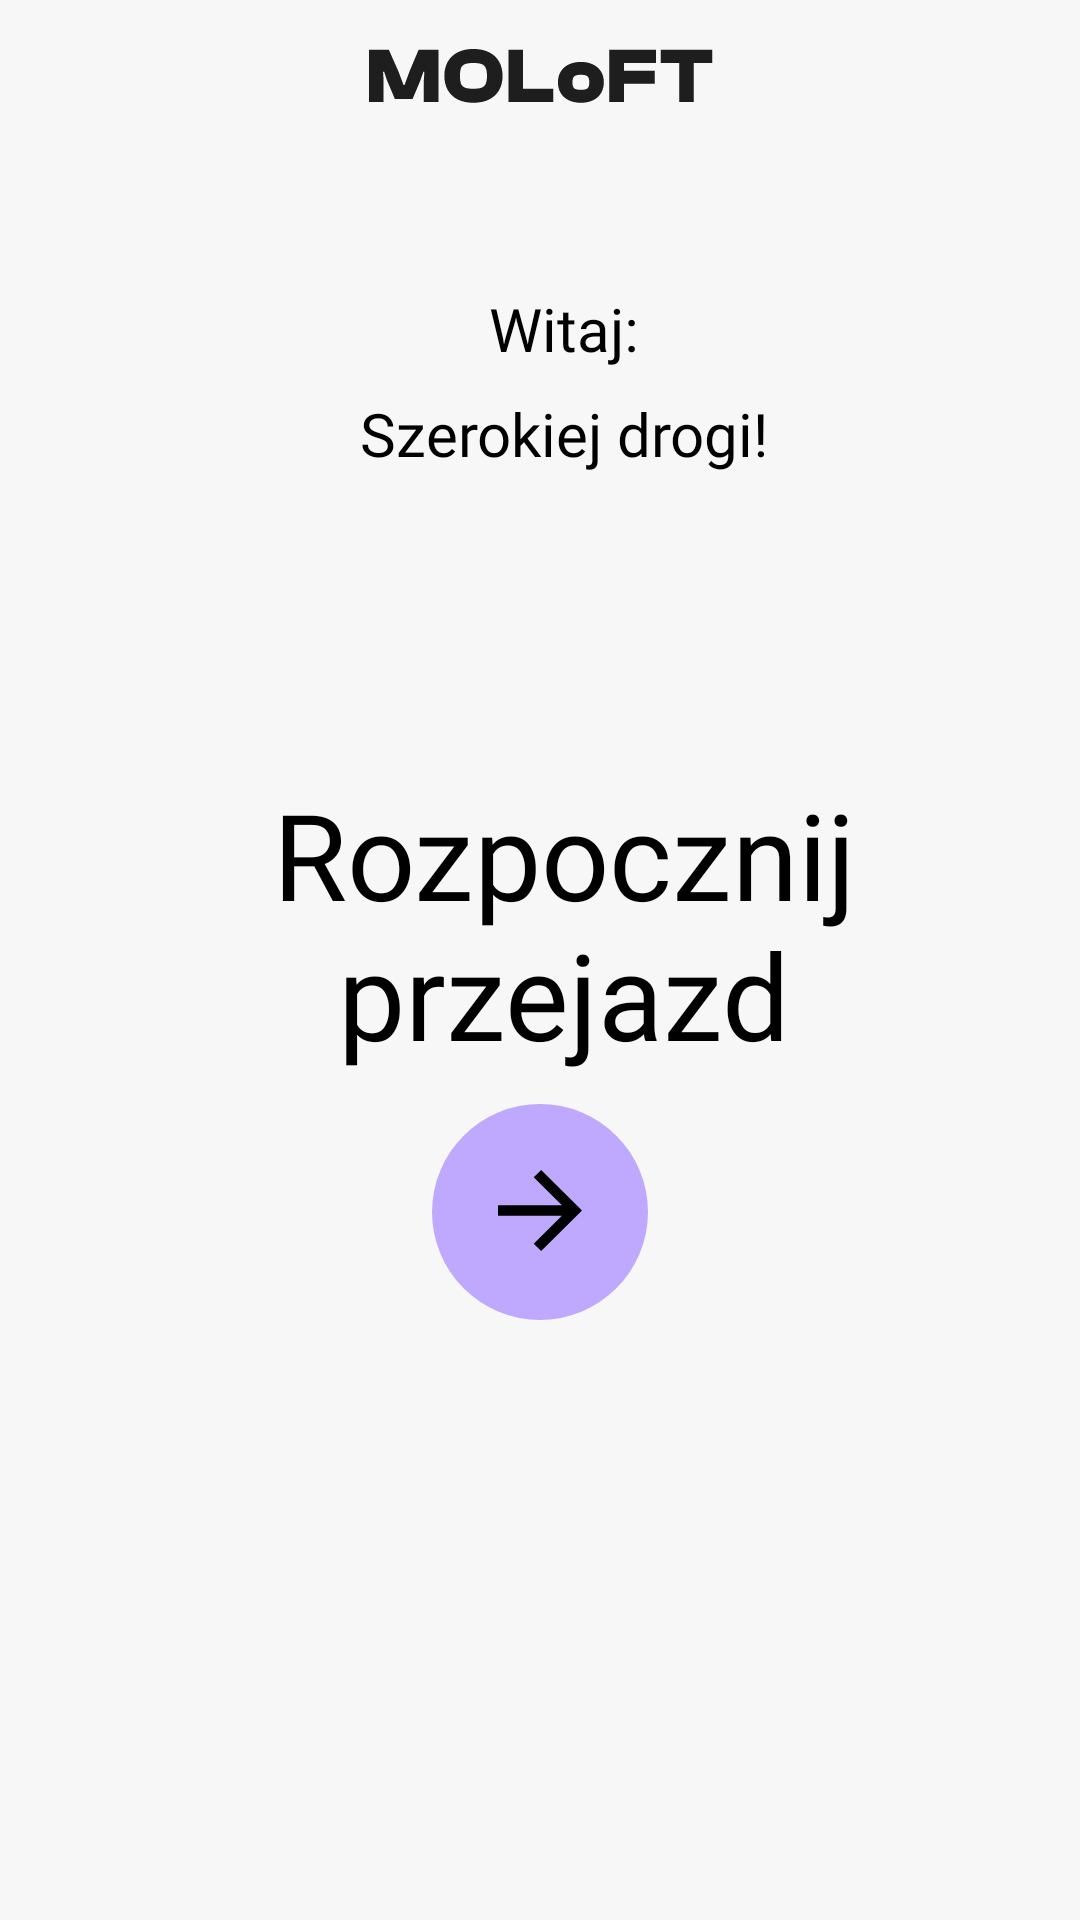

Icon click points for this 1080 × 1920 phone screenshot, format (x=x, y=y):
arrow right: (x=540, y=1212)
